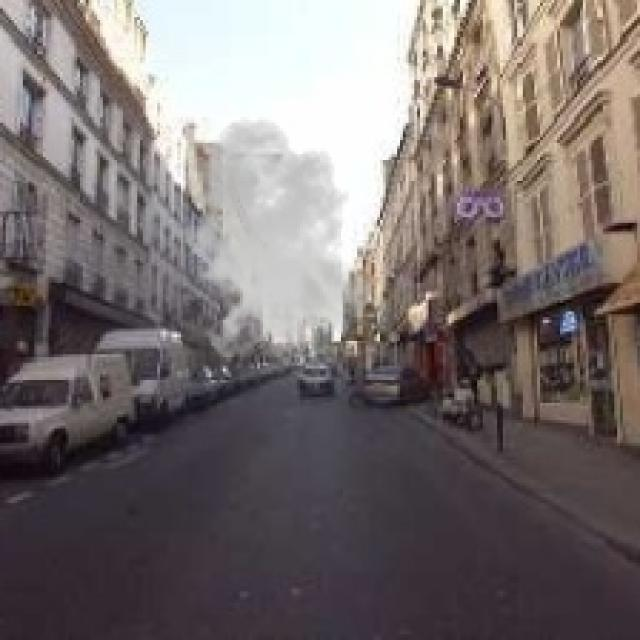smoke: (172, 117, 372, 366)
